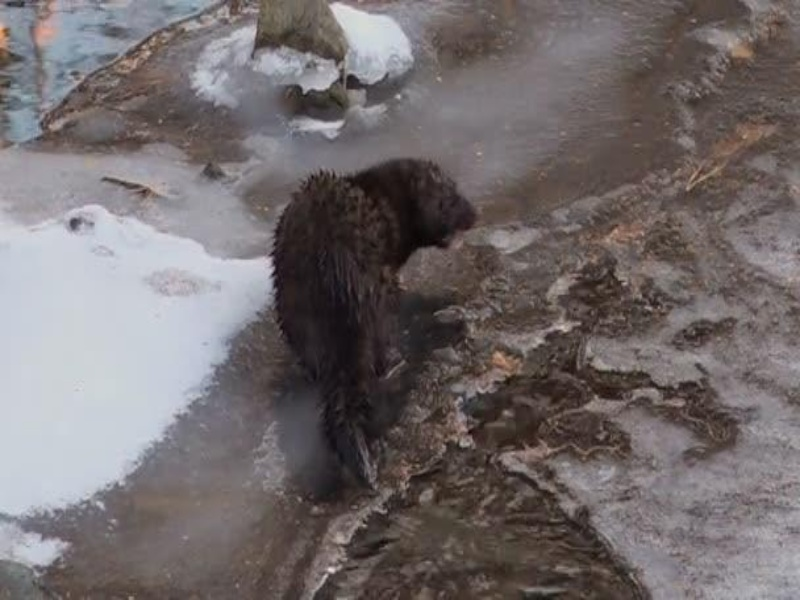minkish: (269, 154, 484, 493)
